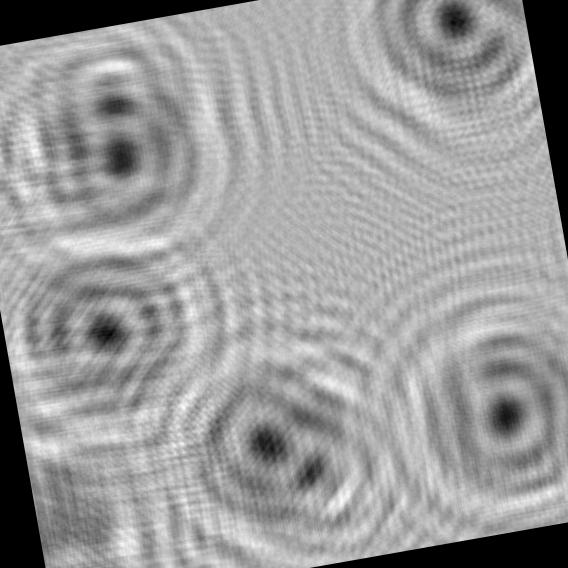P: (0, 204, 255, 454), (366, 276, 568, 550), (306, 0, 547, 178)
R: (145, 299, 450, 568), (0, 10, 242, 282)
T: (18, 390, 191, 568)
